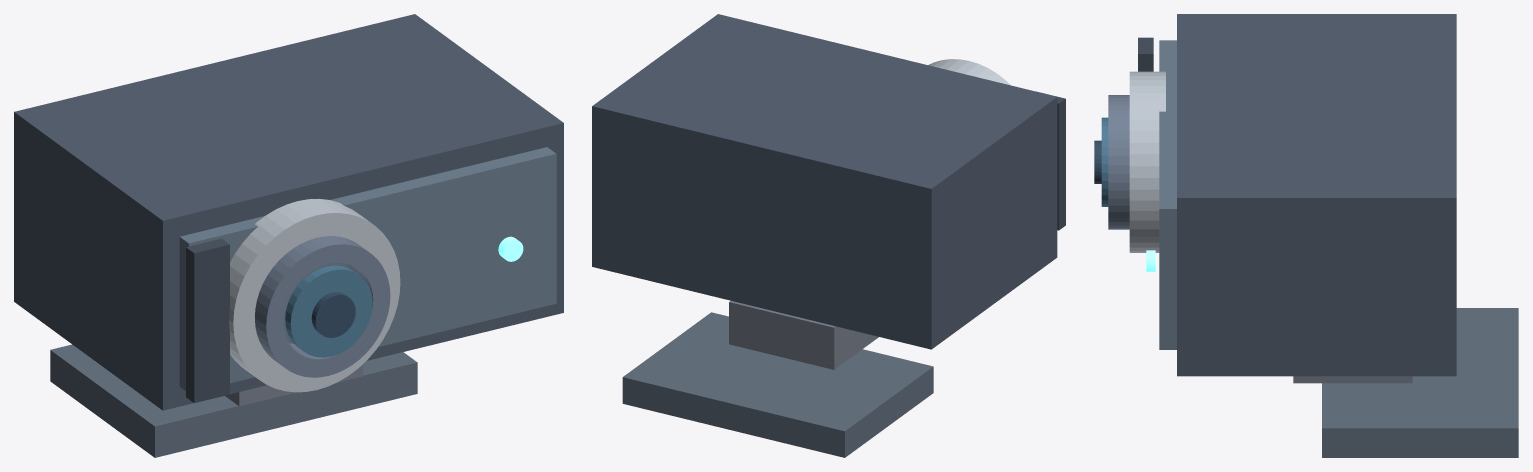
File: elgato-facecam-mk2.glb
The picture shows the model from 3 angles, left to right: view 1: azimuth 30°, elevation 25°; view 2: azimuth 150°, elevation 25°; view 3: azimuth 270°, elevation 25°; orthographic projection. The views are drawn at different scales.
Parts seen in each view (by area): view 1: camera_body-0, front_bezel-1, monitor_grip-9, lens_outer-2, lens_trim-3, privacy_shutter-7, lens_glass-4, lens_inner-5, mount_hinge-8; view 2: camera_body-0, monitor_grip-9, mount_hinge-8, privacy_shutter-7, lens_outer-2; view 3: camera_body-0, monitor_grip-9, lens_outer-2, front_bezel-1, lens_trim-3, mount_hinge-8, lens_glass-4, privacy_shutter-7.
Part boxes in pixels (x1,y1,x2,y2): camera_body-0: [14, 14, 563, 410]; front_bezel-1: [179, 147, 556, 390]; monitor_grip-9: [50, 344, 417, 457]; lens_outer-2: [229, 199, 400, 392]; lens_trim-3: [255, 236, 390, 377]; privacy_shutter-7: [186, 238, 229, 402]; lens_glass-4: [285, 265, 372, 357]; lens_inner-5: [311, 292, 355, 337]; mount_hinge-8: [225, 364, 363, 406]; camera_body-0: [592, 14, 1057, 349]; monitor_grip-9: [622, 312, 933, 457]; mount_hinge-8: [729, 301, 878, 369]; privacy_shutter-7: [1037, 91, 1065, 230]; lens_outer-2: [928, 59, 1010, 85]; camera_body-0: [1177, 14, 1456, 376]; monitor_grip-9: [1322, 308, 1518, 457]; lens_outer-2: [1129, 71, 1165, 252]; front_bezel-1: [1159, 40, 1176, 349]; lens_trim-3: [1108, 95, 1129, 229]; mount_hinge-8: [1293, 376, 1412, 383]; lens_glass-4: [1101, 117, 1108, 206]; privacy_shutter-7: [1138, 37, 1153, 71].
Size of the model in its own units: 0.84 by 0.6215 by 0.8195.
